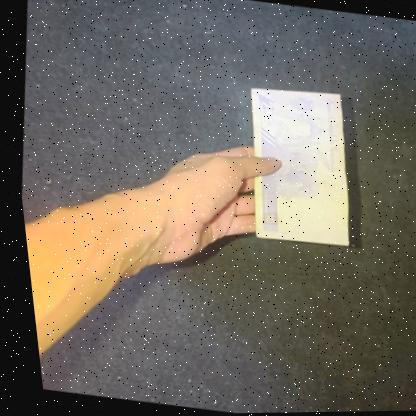ten-back-vef: (225, 83, 364, 249)
